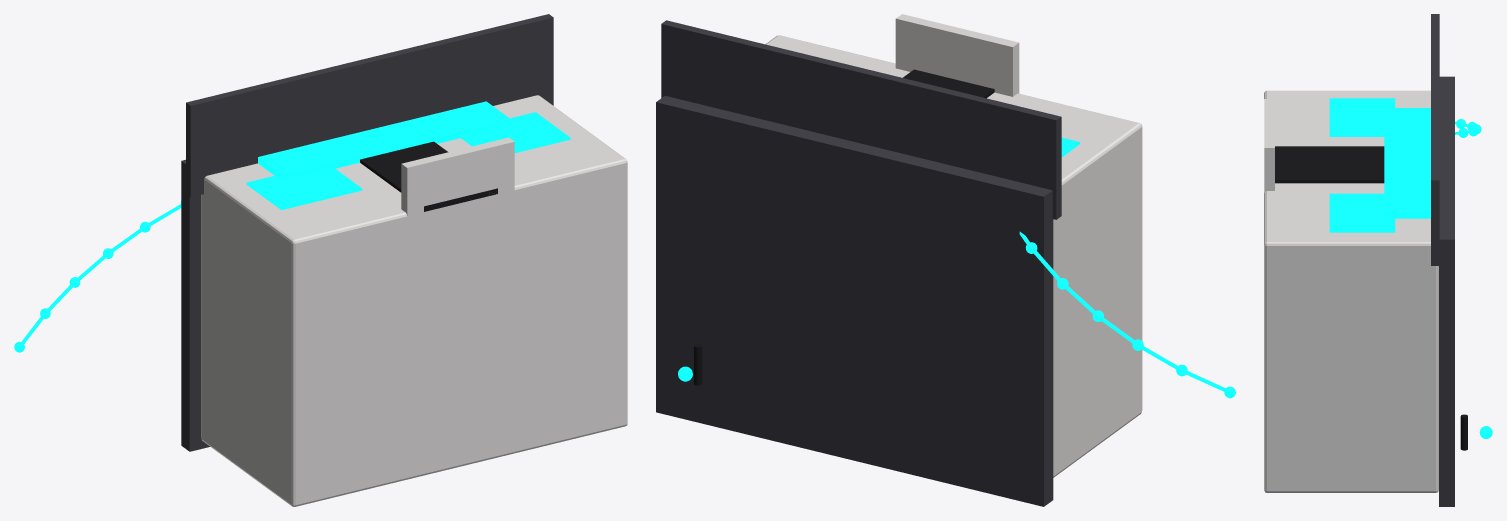
File: minimarket.glb
The picture shows the model from 3 angles, left to right: view 1: azimuth 30°, elevation 25°; view 2: azimuth 150°, elevation 25°; view 3: azimuth 270°, elevation 25°; orthographic projection. The views are drawn at different scales.
Parts seen in each view (by area): view 1: Store_Body, Store_Canopy, Store_Sign, Store_Step, Store_Roof, Store_WindowR, Store_WindowL, Store_Door; view 2: Store_Roof, Store_Canopy, Store_Body, Store_Step, Store_Door; view 3: Store_Body, Store_Roof, Store_Sign, Store_Door, Store_WindowL, Store_WindowR, Store_Canopy, Store_Step, Store_HubPole.
Part boxes in pixels (<box>): Store_Body: <box>201,95,627,506</box>; Store_Canopy: <box>186,14,553,197</box>; Store_Sign: <box>258,101,511,179</box>; Store_Step: <box>401,137,514,216</box>; Store_Roof: <box>181,159,210,451</box>; Store_WindowR: <box>246,167,362,210</box>; Store_WindowL: <box>461,112,570,153</box>; Store_Door: <box>360,141,497,211</box>; Store_Roof: <box>656,96,1053,506</box>; Store_Canopy: <box>661,20,1061,219</box>; Store_Body: <box>765,35,1142,477</box>; Store_Step: <box>895,14,1019,96</box>; Store_Door: <box>903,69,994,98</box>; Store_Body: <box>1264,90,1438,492</box>; Store_Roof: <box>1439,76,1454,506</box>; Store_Sign: <box>1384,108,1430,218</box>; Store_Door: <box>1275,146,1384,183</box>; Store_WindowL: <box>1329,193,1395,232</box>; Store_WindowR: <box>1329,98,1395,136</box>; Store_Canopy: <box>1431,14,1439,265</box>; Store_Step: <box>1264,99,1274,192</box>; Store_HubPole: <box>1460,414,1467,450</box>.
Size of the model in its own units: 7.9 by 4.98 by 3.14.
